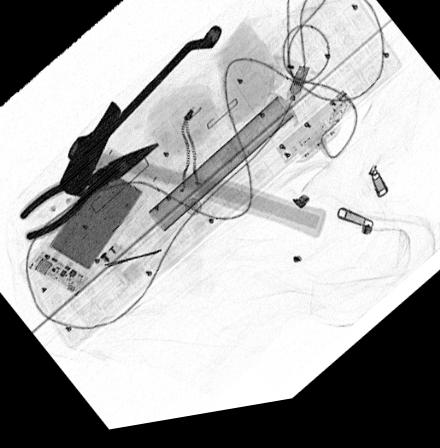Hammer: (57, 103, 325, 249)
Pliers: (18, 146, 160, 242)
Powerbank: (16, 148, 158, 299)
Wrench: (66, 31, 220, 164)
